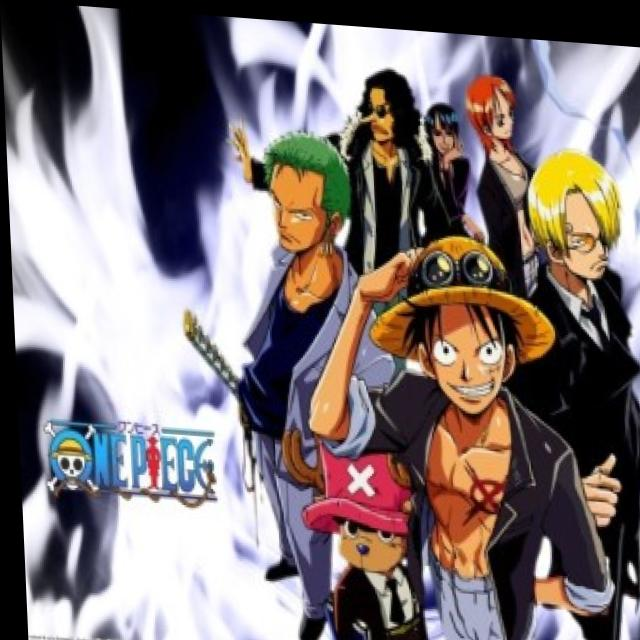Chyopa: (290, 429, 422, 574)
Luffy: (361, 222, 554, 422)
Nami: (461, 56, 527, 155)
NicoRobin: (422, 90, 464, 168)
Sangdi: (519, 135, 632, 278)
Usopp: (351, 66, 414, 153)
Zoro: (246, 122, 362, 264)
